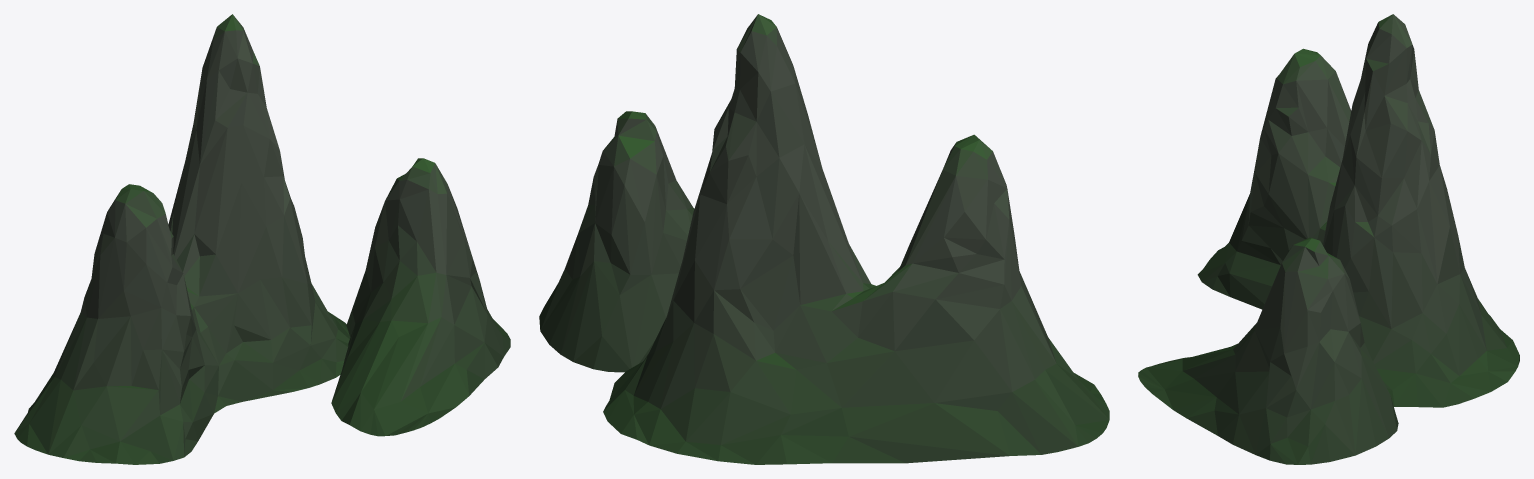
The model's file is bukit.fbx.
3 renders of one model, left to right at view 1: azimuth 30°, elevation 25°; view 2: azimuth 150°, elevation 25°; view 3: azimuth 270°, elevation 25°, orthographic. The views are drawn at different scales.
Visible parts, largest first — view 1: bukit; view 2: bukit; view 3: bukit.
Boxes of the visible parts, bbox=[...] form: bukit: bbox=[14, 14, 510, 464]; bukit: bbox=[539, 14, 1109, 464]; bukit: bbox=[1138, 14, 1519, 464].
Bounding box in the file's own units: 60 × 41.03 × 41.33.
